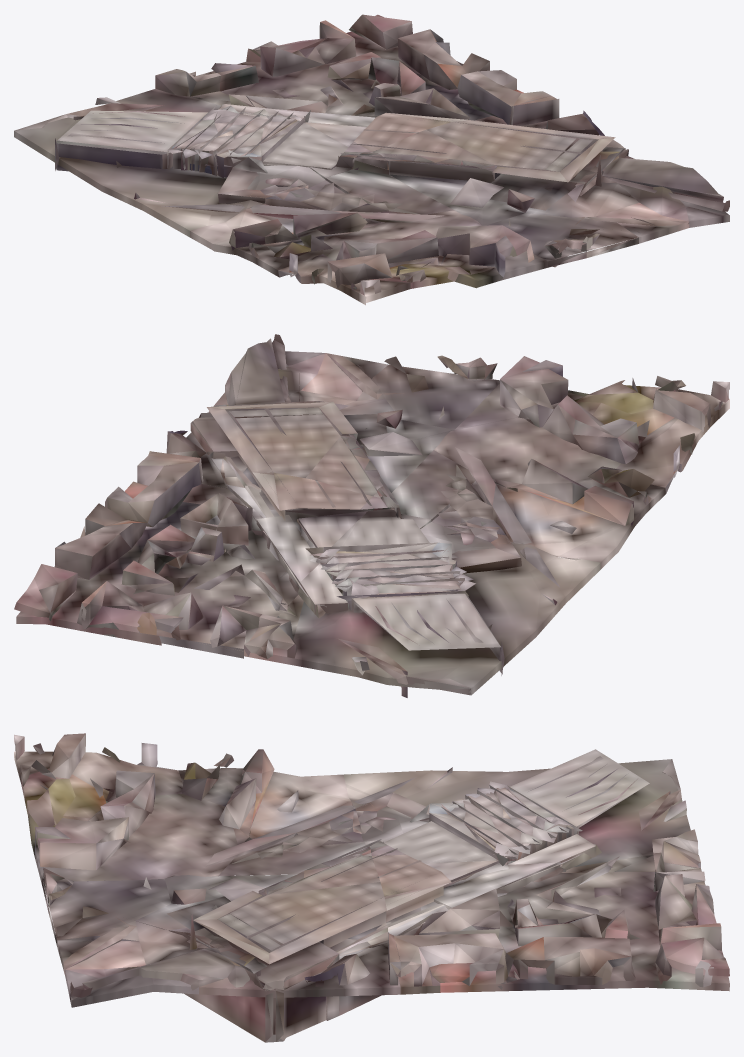
3 renders of one model, top to bottom at view 1: azimuth 30°, elevation 25°; view 2: azimuth 150°, elevation 25°; view 3: azimuth 270°, elevation 25°, orthographic. The views are drawn at different scales.
Parts seen in each view (by area): view 1: Mesh_0; view 2: Mesh_0; view 3: Mesh_0.
Boxes of the visible parts, x1=… form: Mesh_0: x1=14, y1=14, x2=729, y2=305; Mesh_0: x1=14, y1=334, x2=729, y2=697; Mesh_0: x1=14, y1=733, x2=729, y2=1042.
Bounding box in the file's own units: 533 × 106 × 659.
1 material, 1 textured.
